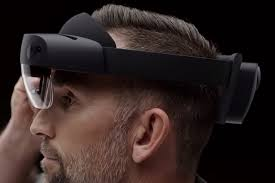hololens: (21, 13, 261, 127)
